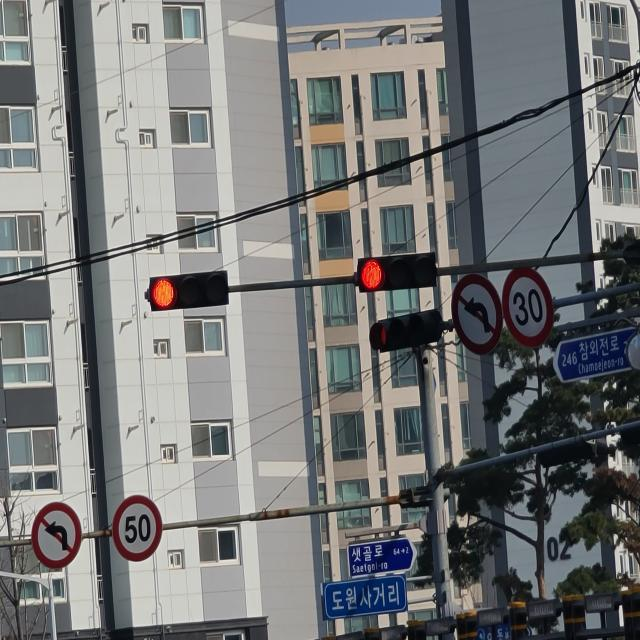Red Light: (150, 277, 176, 310), (358, 258, 383, 292), (372, 319, 391, 347)
